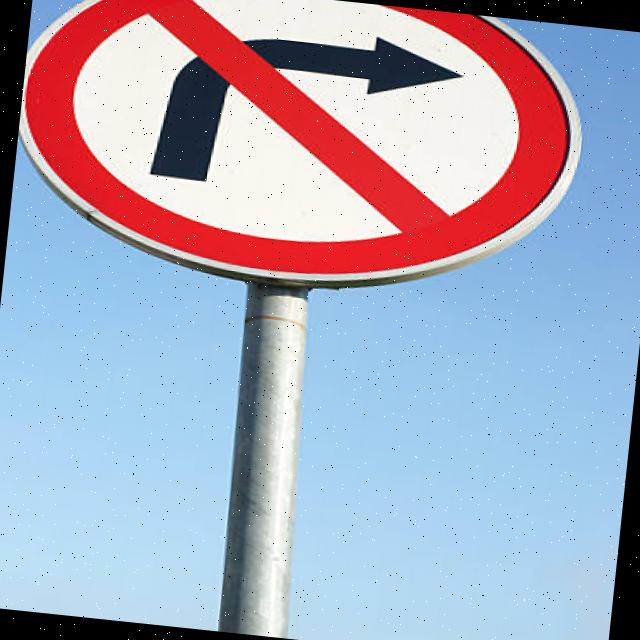do_not_turn_right: (5, 0, 593, 310)
